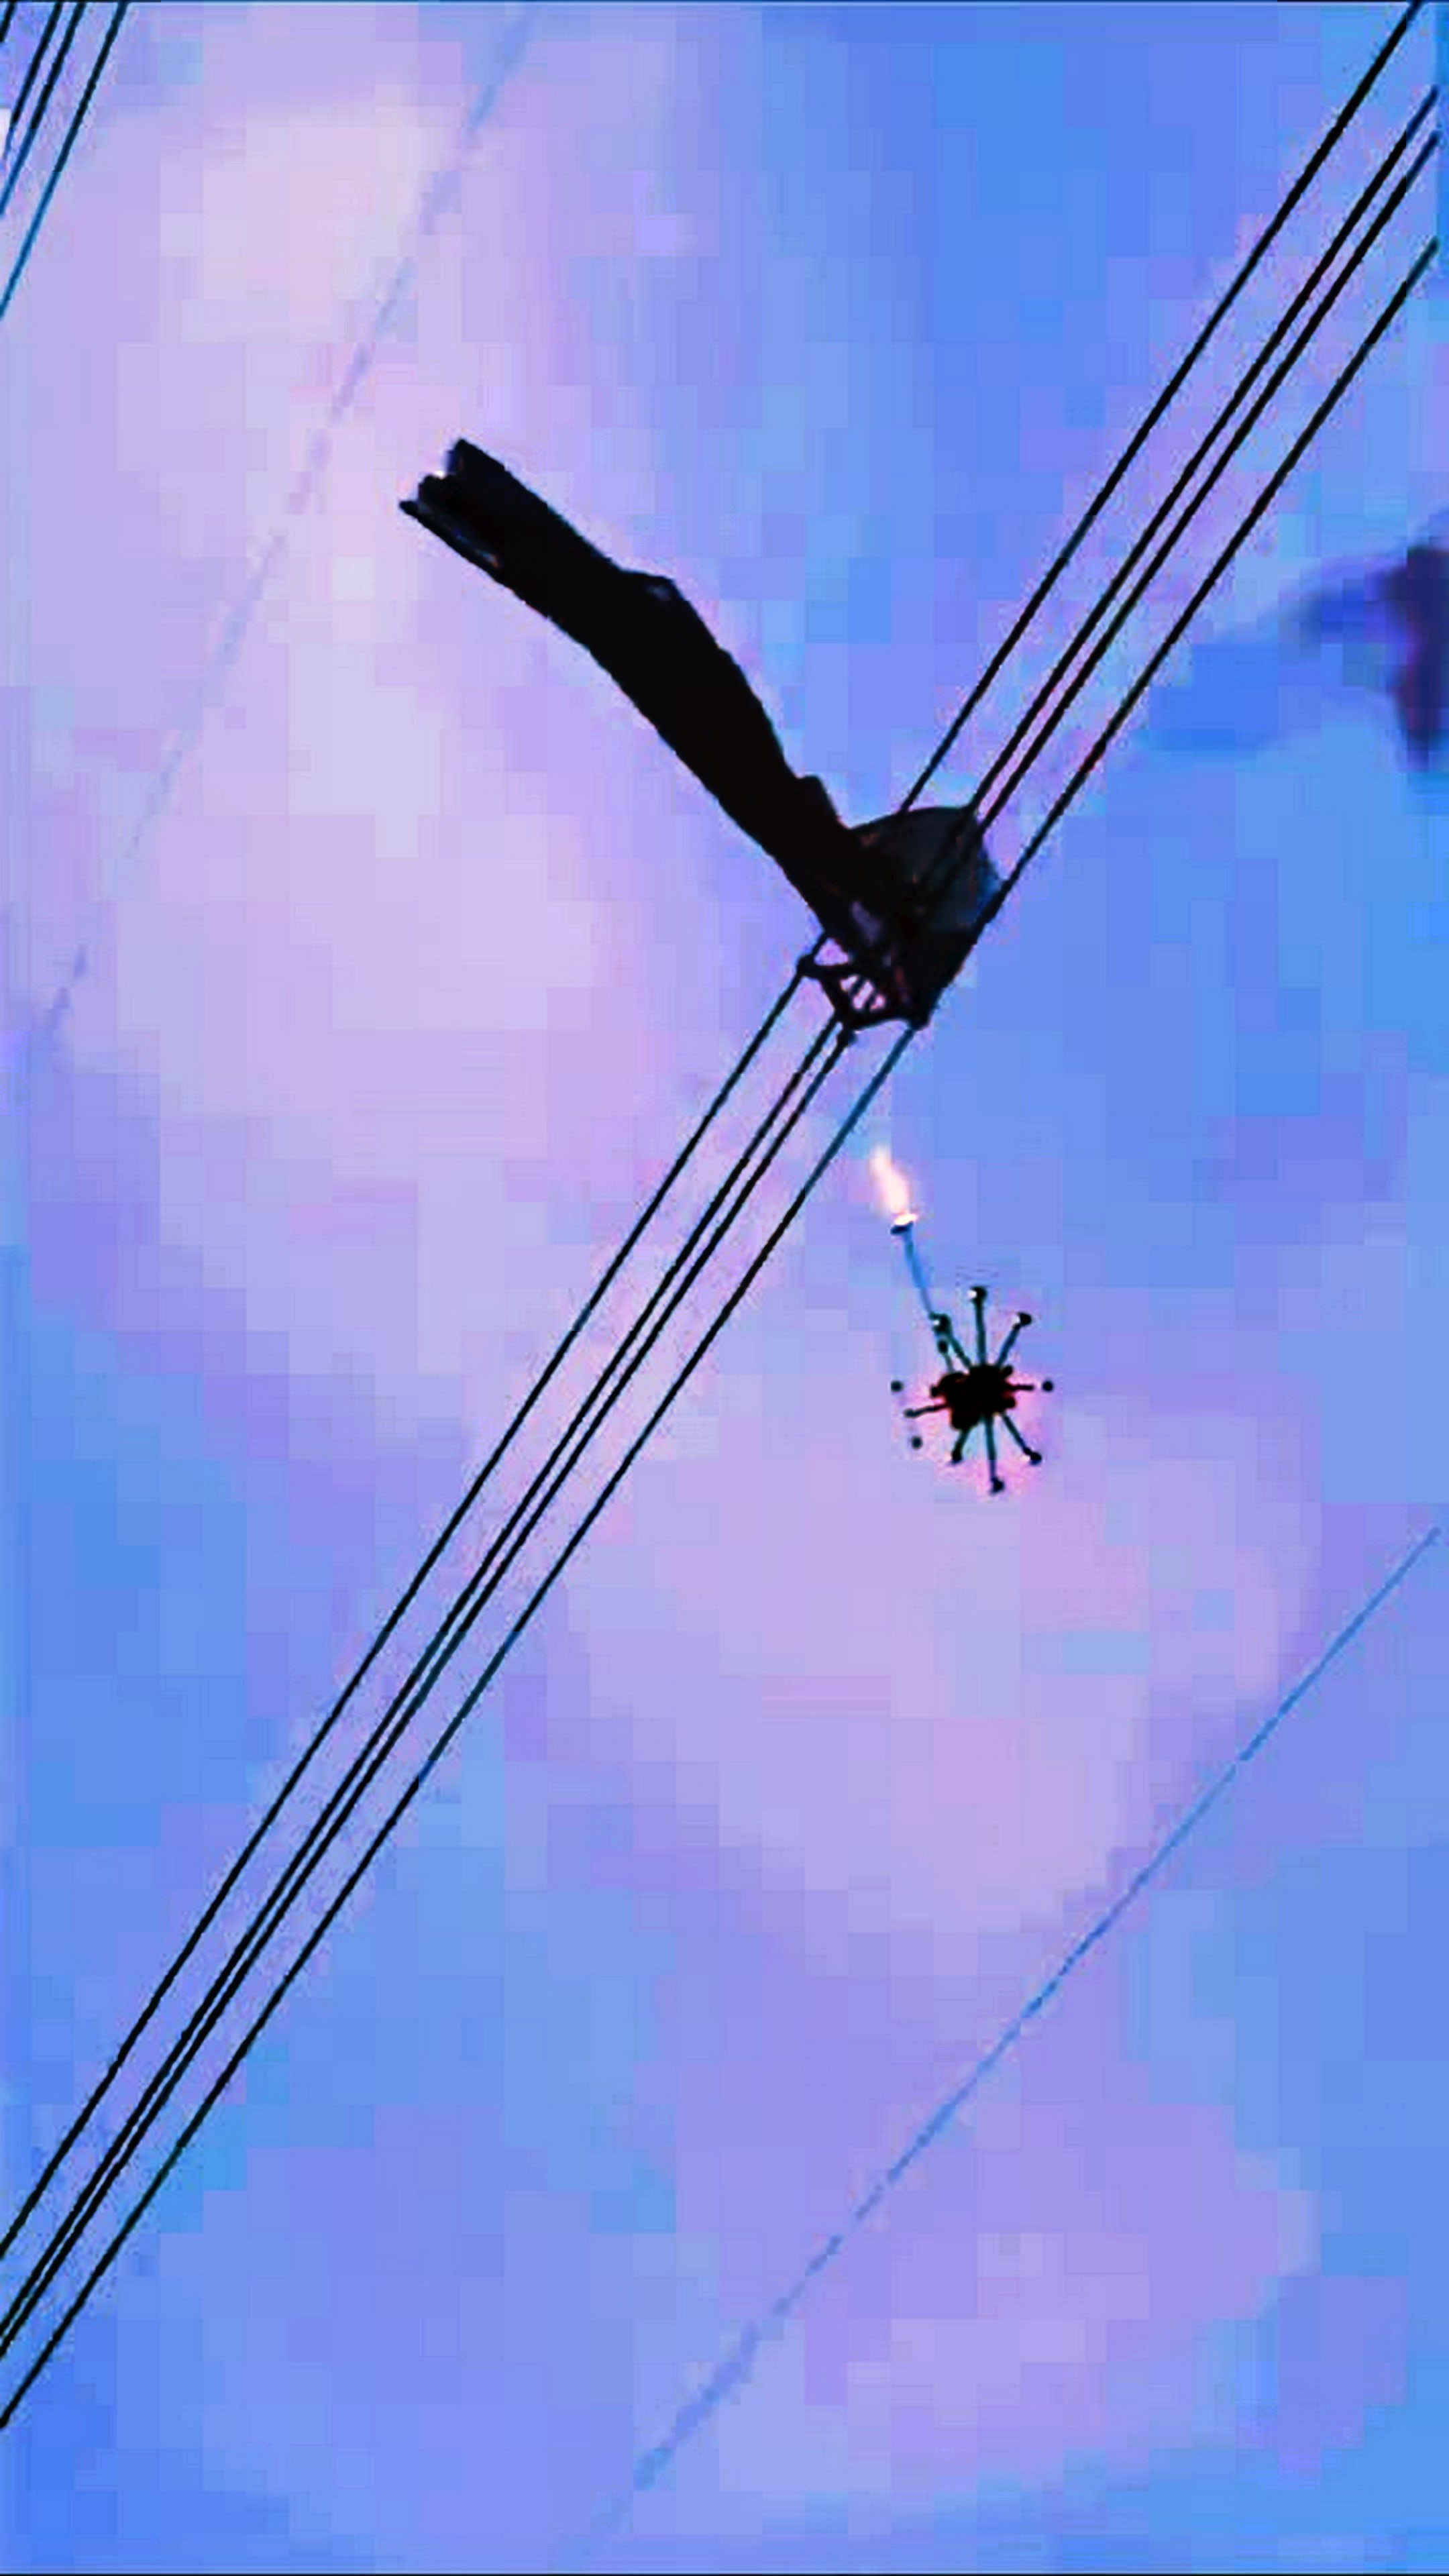wire foreign body: (370, 418, 1069, 1074)
